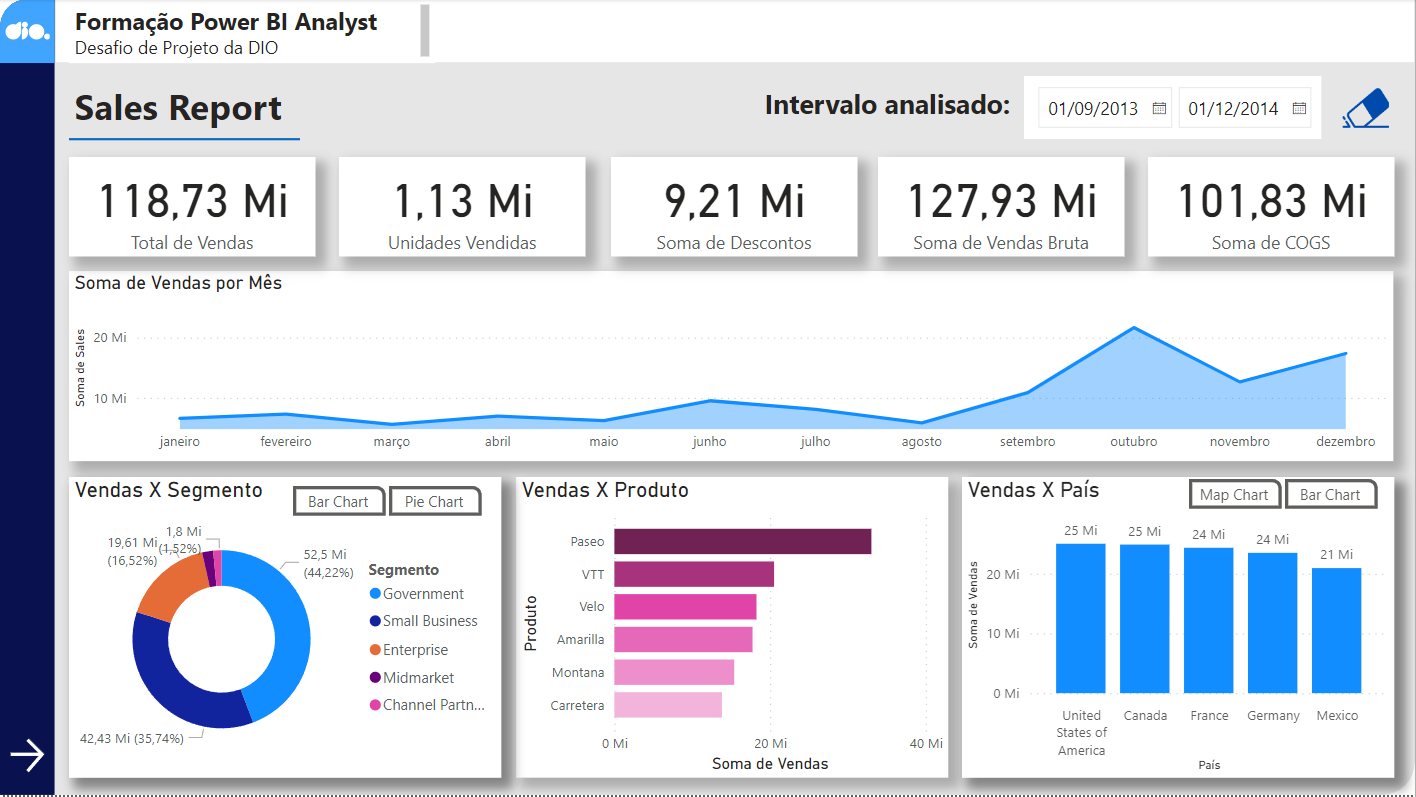

The page's visual inventory and layout, read from the dashboard file:
{"tool":"powerbi","page":{"name":"Página 1","canvas":[1280,720],"ordinal":0},"visuals":[{"type":"shape","box":[0,0,1280,720.2],"z":0},{"type":"textbox","box":[62.2,70,209,57.3],"z":0,"group":"g5"},{"type":"image","title":"clear","box":[1209.1,72.9,51.5,51.5],"z":0,"group":"g1"},{"type":"card","fields":{"Values":["Sum(financials. Sales)"]},"box":[62.2,142.9,222.6,90.4],"z":0,"group":"g2"},{"type":"clusteredBarChart","title":"Vendas X Segmento","fields":{"Y":["Sum(financials. Sales)"],"Category":["financials.Segment"]},"box":[62.2,432.5,390.7,272.1],"z":0,"group":"g4"},{"type":"map","title":"Vendas X País","fields":{"Size":["Sum(financials. Sales)"],"Category":["financials.Country"]},"box":[869.9,432.5,390.7,272.1],"z":0,"group":"g3"},{"type":"shape","box":[0,0,49.6,720.2],"z":1000},{"type":"slicer","fields":{"Values":["financials.Date"]},"box":[926.3,70,269.2,57.3],"z":1000,"group":"g1"},{"type":"shape","box":[62.2,111.8,209,31.1],"z":1000,"group":"g5"},{"type":"card","fields":{"Values":["Sum(financials.Units Sold)"]},"box":[306.1,142.9,222.6,90.4],"z":1000,"group":"g2"},{"type":"actionButton","title":"Botão - bar","box":[1162.2,434.3,83.9,27],"z":1250,"group":"g3"},{"type":"actionButton","title":"Botão - map","box":[1075.4,434.3,83.9,27],"z":1500,"group":"g3"},{"type":"actionButton","title":"Botão - bar","box":[264.6,440.3,83.9,27],"z":1500,"group":"g4"},{"type":"shape","box":[0,0,49.6,58.3],"z":2000},{"type":"textbox","box":[686.2,73.9,240.1,50.5],"z":2000,"group":"g1"},{"type":"card","fields":{"Values":["Sum(financials.Discounts)"]},"box":[552,142.9,222.6,90.4],"z":2000,"group":"g2"},{"type":"actionButton","title":"Botão - pie","box":[351.5,440.3,83.9,27],"z":2000,"group":"g4"},{"type":"image","title":"logo dio","box":[0,3.9,49.6,49.6],"z":3000},{"type":"actionButton","box":[1209.1,73.9,51.5,50.5],"z":3000,"group":"g1"},{"type":"card","fields":{"Values":["Sum(financials.Gross Sales)"]},"box":[794,142.9,222.6,90.4],"z":3000,"group":"g2"},{"type":"shape","box":[49.6,0,1230.4,58.3],"z":4000},{"type":"card","fields":{"Values":["Sum(financials.COGS)"]},"box":[1038,142.9,222.6,90.4],"z":4000,"group":"g2"},{"type":"textbox","box":[62.2,0,331.4,58.3],"z":5000},{"type":"stackedAreaChart","title":"Soma de  Vendas por Mês","fields":{"Y":["Sum(financials. Sales)"],"Category":["financials.Date.Variation.Hierarquia de datas.Mês"]},"box":[62.2,245.9,1198.4,172],"z":6000},{"type":"clusteredBarChart","title":"Vendas X Produto","fields":{"Y":["Sum(financials. Sales)"],"Category":["financials.Product"]},"box":[466.5,432.5,390.7,272.1],"z":7000},{"type":"group","id":"g1","title":"Filtro de data","box":[686.2,70,574.4,57.3],"z":8000},{"type":"group","id":"g2","title":"Cartões","box":[62.2,142.9,1198.4,90.4],"z":9000},{"type":"group","id":"g3","title":"Vendas X País","box":[869.9,432.5,391,272.1],"z":10000},{"type":"group","id":"g4","title":"Vendas X Segmento","box":[62,432.5,391,272.1],"z":11000},{"type":"group","id":"g5","title":"Title Report","box":[62.2,70,209,72.9],"z":12000},{"type":"actionButton","box":[3.4,663.7,41.7,40.6],"z":13000}]}

Visuals, with their boxes on the page's 1280x720 design canvas (x1, y1, x2, y2). These are canvas units, not pixel positions in the 1416x797 screenshot, which may show the page scaled, cropped or inside an application window:
shape: (left=0, top=0, right=1280, bottom=720)
textbox: (left=62, top=70, right=271, bottom=127)
"clear" image: (left=1209, top=73, right=1261, bottom=124)
card - Sum(financials. Sales): (left=62, top=143, right=285, bottom=233)
"Vendas X Segmento" clusteredBarChart: (left=62, top=432, right=453, bottom=705)
"Vendas X País" map: (left=870, top=432, right=1261, bottom=705)
shape: (left=0, top=0, right=50, bottom=720)
slicer - financials.Date: (left=926, top=70, right=1196, bottom=127)
shape: (left=62, top=112, right=271, bottom=143)
card - Sum(financials.Units Sold): (left=306, top=143, right=529, bottom=233)
"Botão - bar" actionButton: (left=1162, top=434, right=1246, bottom=461)
"Botão - map" actionButton: (left=1075, top=434, right=1159, bottom=461)
"Botão - bar" actionButton: (left=265, top=440, right=348, bottom=467)
shape: (left=0, top=0, right=50, bottom=58)
textbox: (left=686, top=74, right=926, bottom=124)
card - Sum(financials.Discounts): (left=552, top=143, right=775, bottom=233)
"Botão - pie" actionButton: (left=352, top=440, right=435, bottom=467)
"logo dio" image: (left=0, top=4, right=50, bottom=54)
actionButton: (left=1209, top=74, right=1261, bottom=124)
card - Sum(financials.Gross Sales): (left=794, top=143, right=1017, bottom=233)
shape: (left=50, top=0, right=1280, bottom=58)
card - Sum(financials.COGS): (left=1038, top=143, right=1261, bottom=233)
textbox: (left=62, top=0, right=394, bottom=58)
"Soma de  Vendas por Mês" stackedAreaChart: (left=62, top=246, right=1261, bottom=418)
"Vendas X Produto" clusteredBarChart: (left=466, top=432, right=857, bottom=705)
"Filtro de data" group: (left=686, top=70, right=1261, bottom=127)
"Cartões" group: (left=62, top=143, right=1261, bottom=233)
"Vendas X País" group: (left=870, top=432, right=1261, bottom=705)
"Vendas X Segmento" group: (left=62, top=432, right=453, bottom=705)
"Title Report" group: (left=62, top=70, right=271, bottom=143)
actionButton: (left=3, top=664, right=45, bottom=704)
